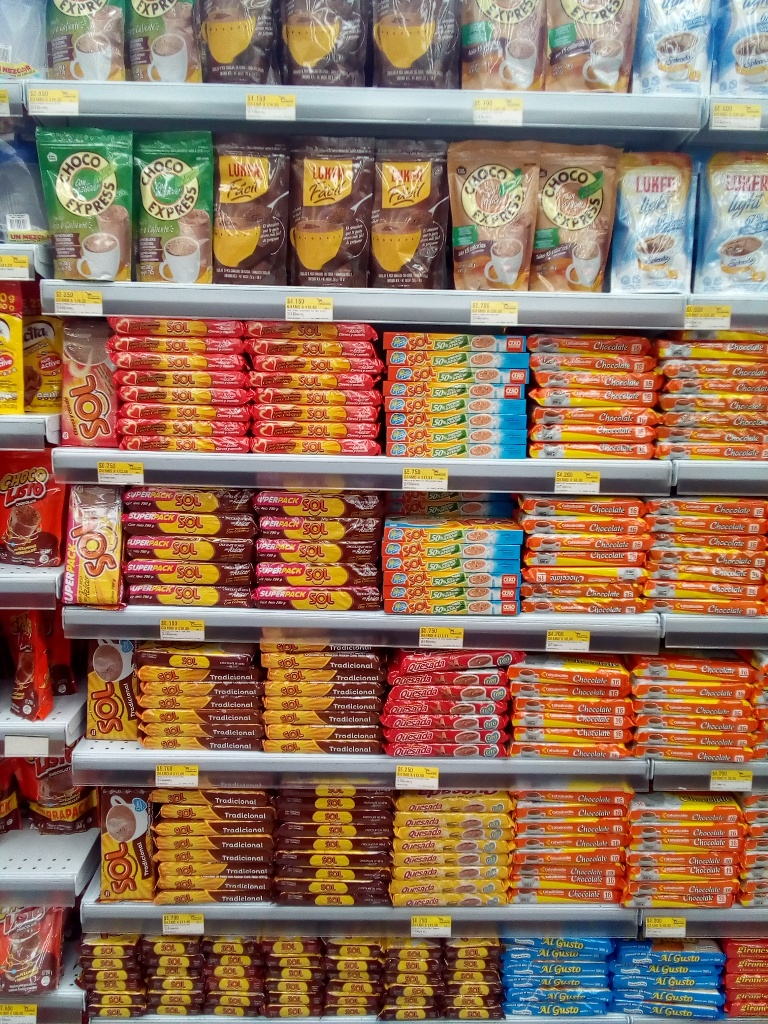COL0170103DYP20000: (1, 898, 59, 994)
COL0170103DYP36000: (17, 749, 96, 835)
